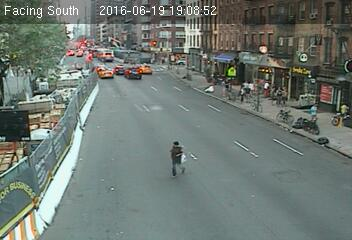neg: (295, 41, 315, 68), (94, 59, 113, 85), (312, 32, 330, 54), (332, 57, 346, 76), (140, 58, 151, 73)
pos: (156, 137, 191, 183), (304, 100, 326, 129)
